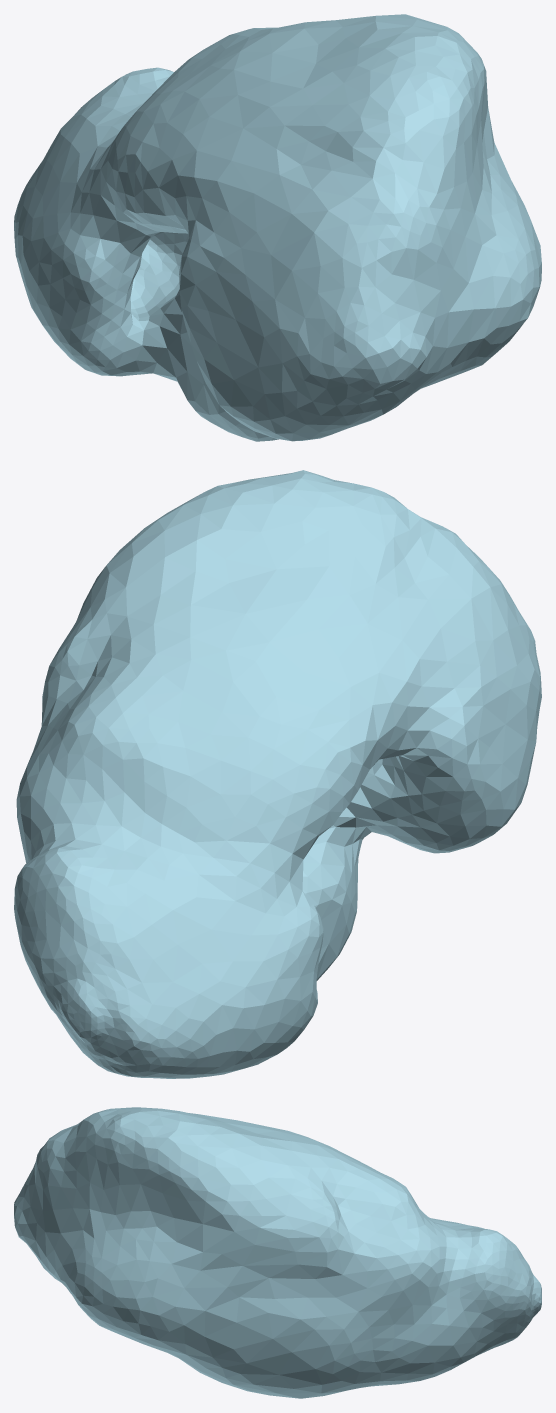
Rendered from leftkidney.obj.
3 renders of one model, top to bottom at view 1: azimuth 30°, elevation 25°; view 2: azimuth 150°, elevation 25°; view 3: azimuth 270°, elevation 25°, orthographic. The views are drawn at different scales.
Visible parts, largest first — view 1: grp1; view 2: grp1; view 3: grp1.
Part boxes in pixels (box(x1,y1,x2,y2)): grp1: box(14, 14, 541, 441); grp1: box(14, 470, 541, 1078); grp1: box(14, 1107, 541, 1398).
Bounding box in the file's own units: 50.42 × 60.33 × 98.
